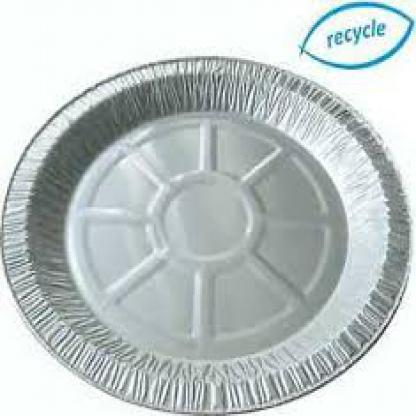METAL: (0, 50, 411, 412)
